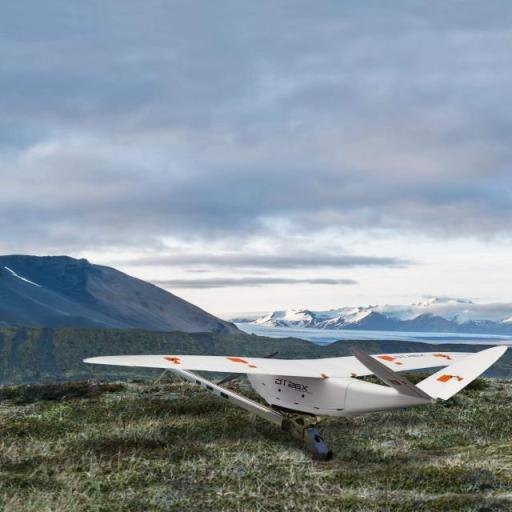uav: (82, 345, 512, 433)
